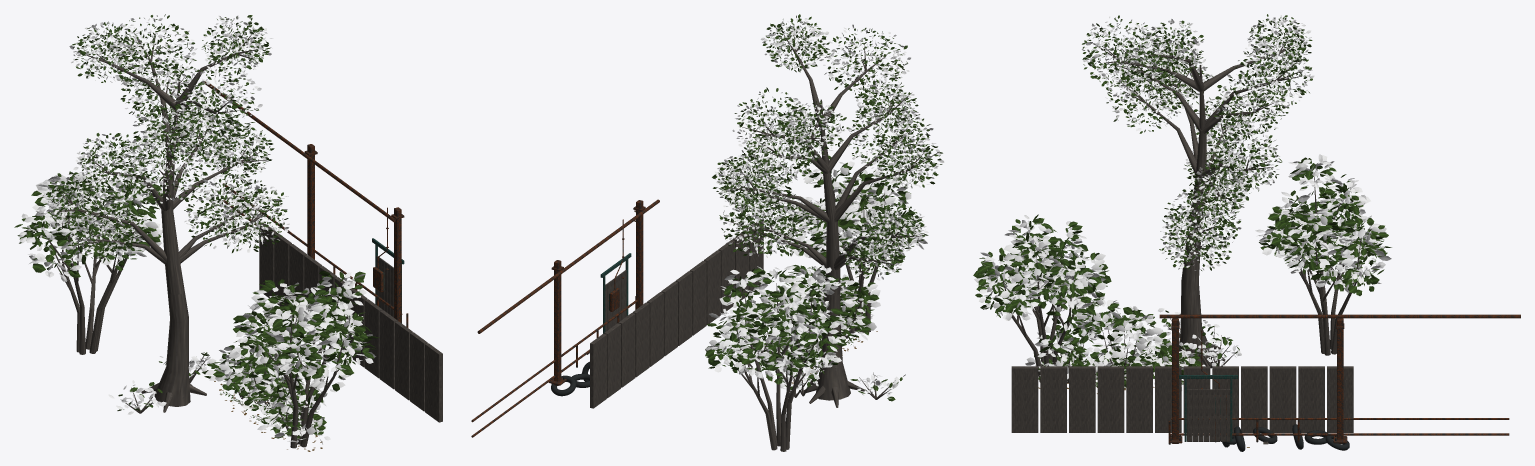
File: SM_Env_Tile_m3_p1.fbx
The picture shows the model from 3 angles, left to right: view 1: azimuth 30°, elevation 25°; view 2: azimuth 150°, elevation 25°; view 3: azimuth 270°, elevation 25°; orthographic projection. The views are drawn at different scales.
Visible parts, largest first — view 1: SM_Env_Tile_m3_p1; view 2: SM_Env_Tile_m3_p1; view 3: SM_Env_Tile_m3_p1.
Boxes of the visible parts, <box> form: SM_Env_Tile_m3_p1: <box>14,14,442,451</box>; SM_Env_Tile_m3_p1: <box>471,14,944,451</box>; SM_Env_Tile_m3_p1: <box>973,14,1520,451</box>.
Size of what is drawn, in the model's own units: 1281 by 1911 by 1389.
12 materials, 7 textured.
